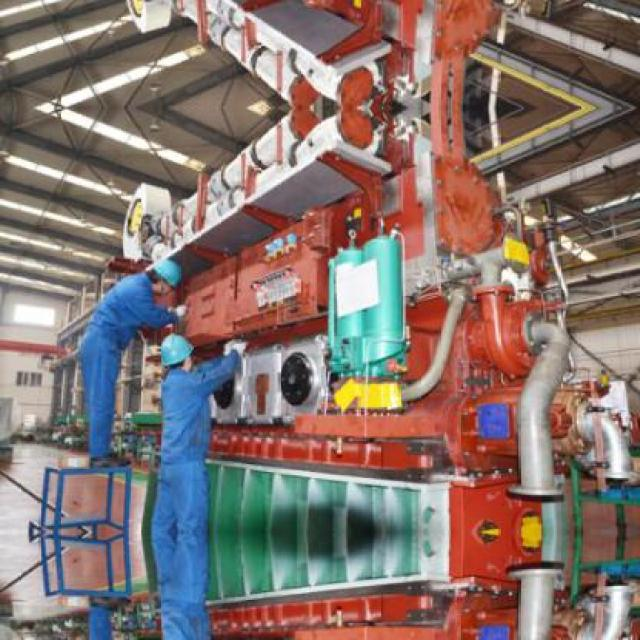helmet: (144, 256, 182, 296), (158, 332, 190, 376)
